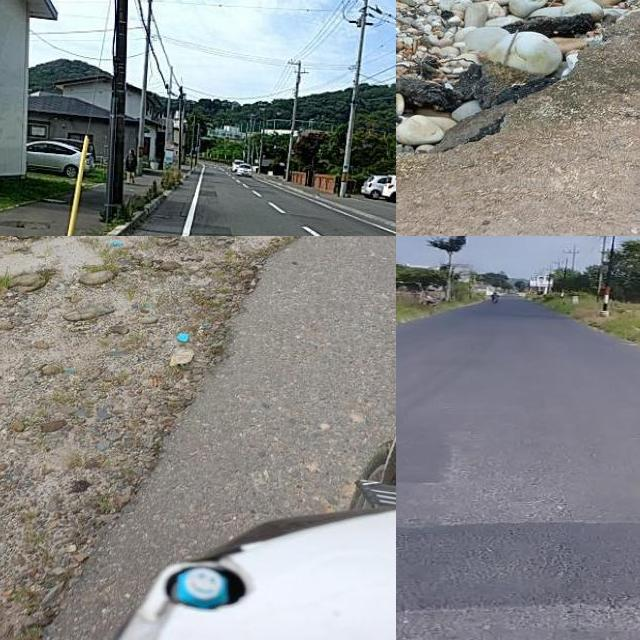Pinggir: (0, 236, 312, 640), (396, 0, 640, 223)
Sambungan: (396, 524, 640, 617)
